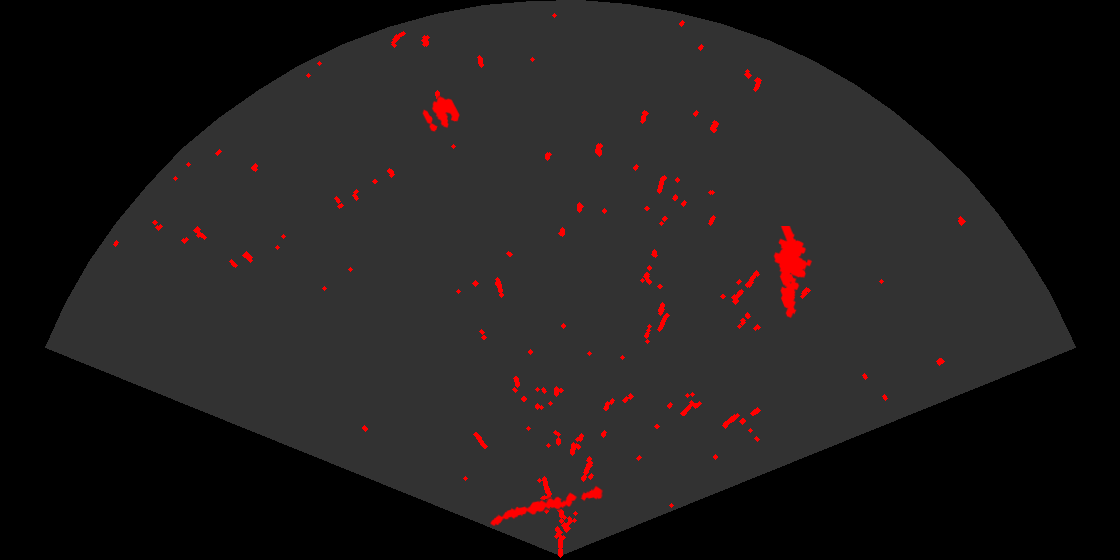ball: (421, 95, 461, 133)
chain: (489, 484, 605, 528)
frogman: (772, 226, 814, 320)
